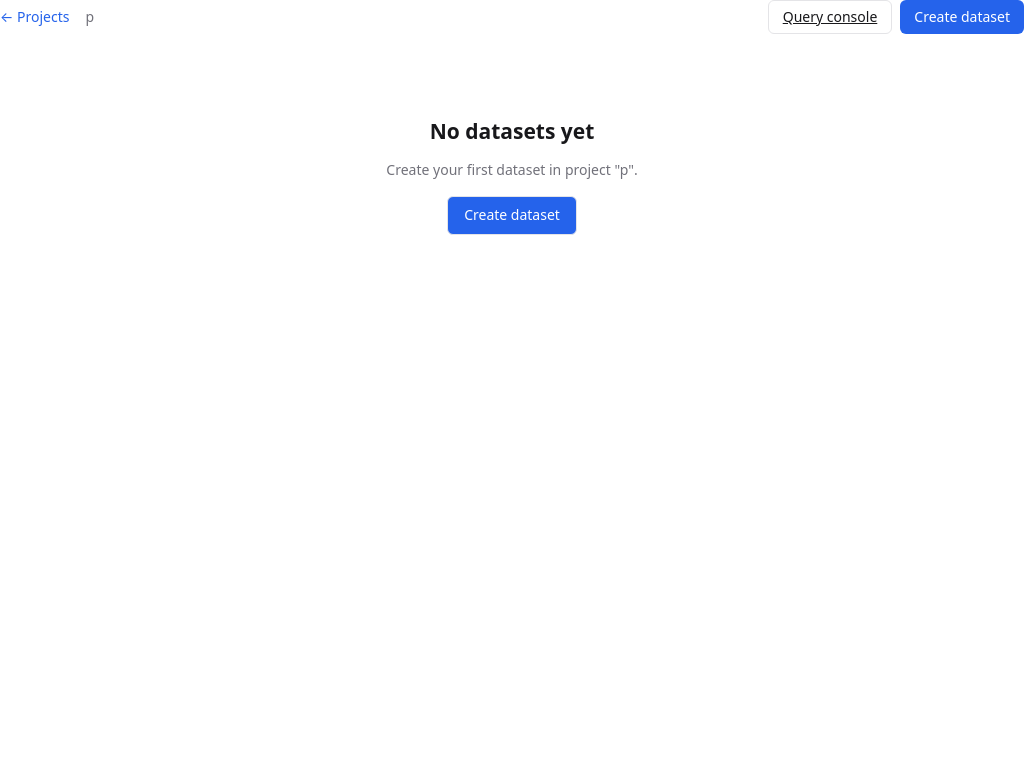
it: DatasetList › creates a dataset and refreshes the list
Click the button "Create dataset" next to "Query console".
click(962, 17)  # box 900,0 -> 1023,34
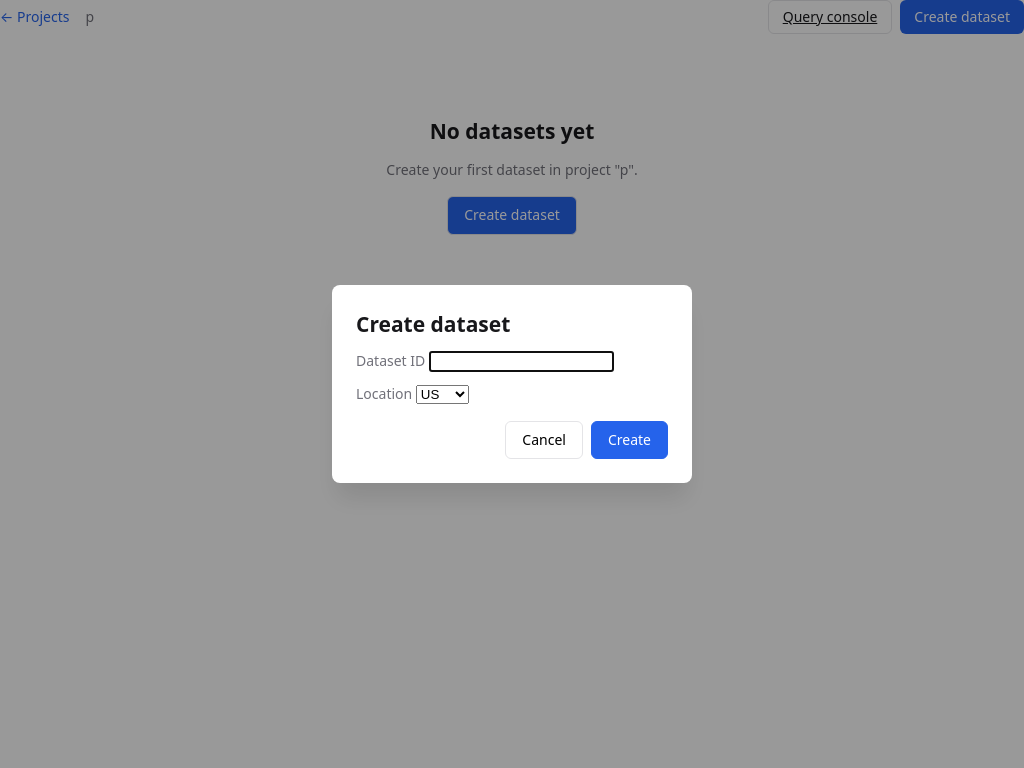
Type "x" into the field labelled "Dataset ID".
click(521, 362); type("x")  # box 429,351 -> 614,372
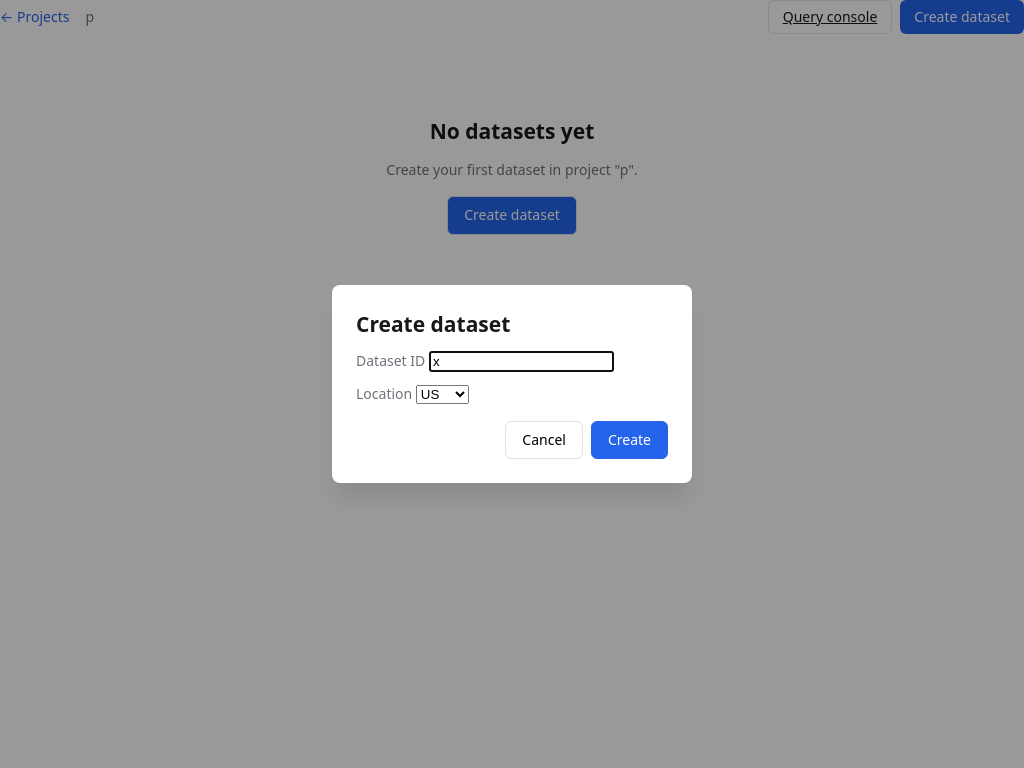
Click the button "Create".
click(629, 440)  # box 591,421 -> 668,459
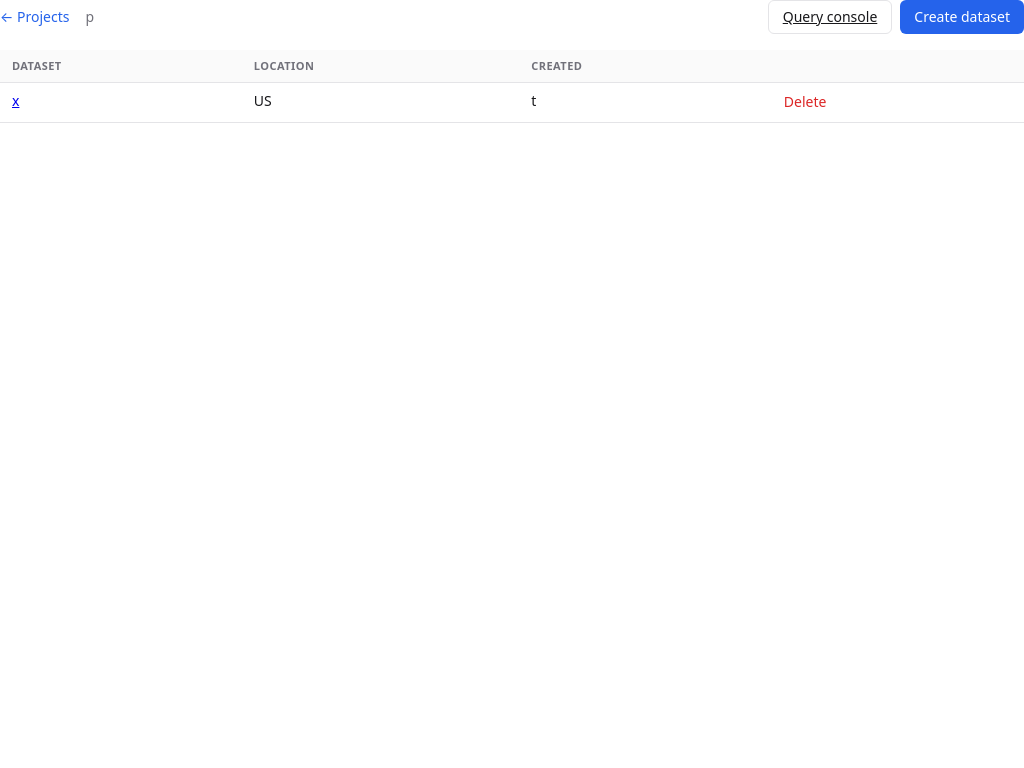
Result: the link "x" is shown at 12,91 -> 19,110
